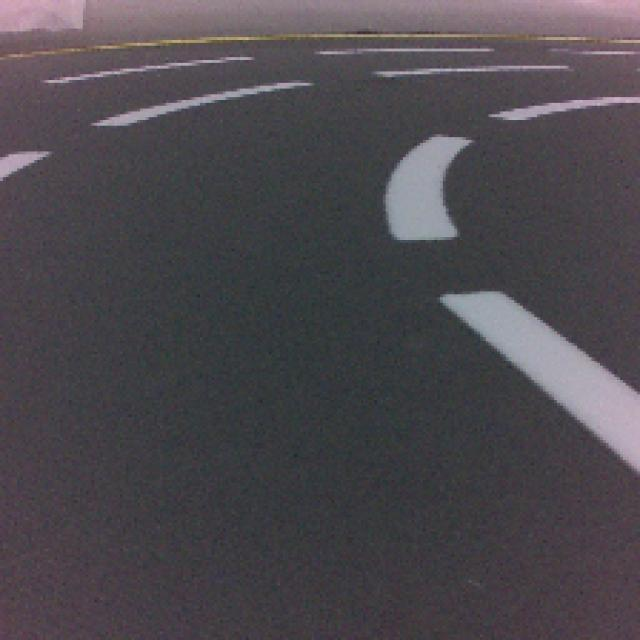Road: (0, 415, 640, 640)
